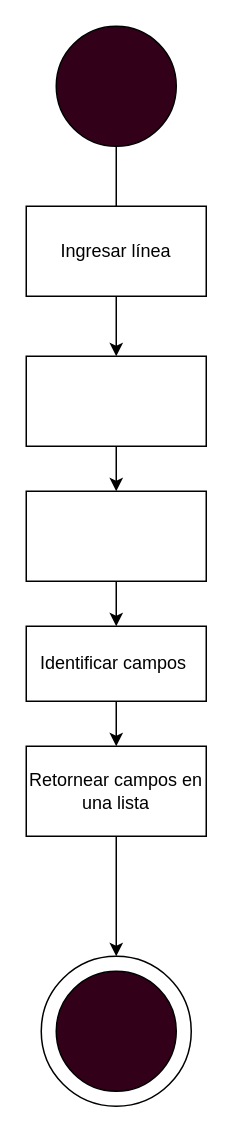
Some shapes in this 233 by 1133 pixel diagram are drawn without their labels. The box of each missing label's shape, as (x1, y1, x2, y2) in pixels:
Limpiar texto: (25, 355, 206, 446)
Separar texto: (25, 490, 206, 581)
